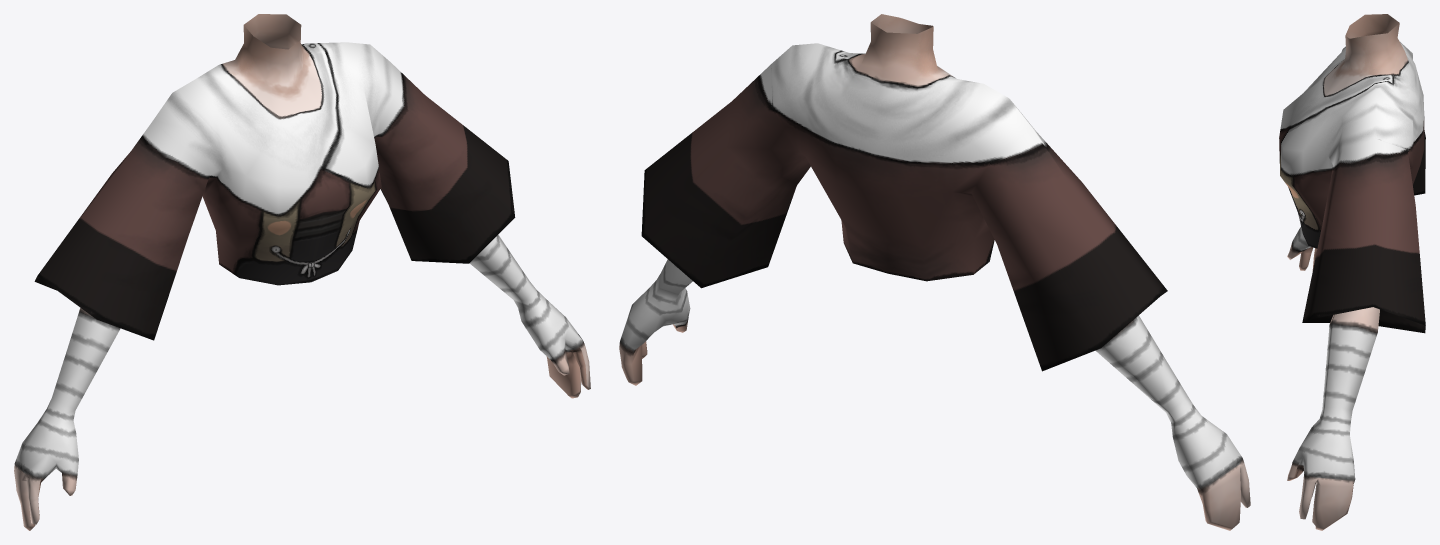
Rendered from CH_Aka_Monk_F_Chest02.FBX.
3 renders of one model, left to right at view 1: azimuth 30°, elevation 25°; view 2: azimuth 150°, elevation 25°; view 3: azimuth 270°, elevation 25°, orthographic. The views are drawn at different scales.
Parts seen in each view (by area): view 1: CH_Aka_Monk_F_Chest02; view 2: CH_Aka_Monk_F_Chest02; view 3: CH_Aka_Monk_F_Chest02.
Boxes of the visible parts, <box> form: CH_Aka_Monk_F_Chest02: <box>14,14,590,530</box>; CH_Aka_Monk_F_Chest02: <box>619,14,1250,530</box>; CH_Aka_Monk_F_Chest02: <box>1279,14,1425,530</box>.
Bounding box in the file's own units: 90.35 × 64.72 × 22.28.
1 material, 1 textured.
